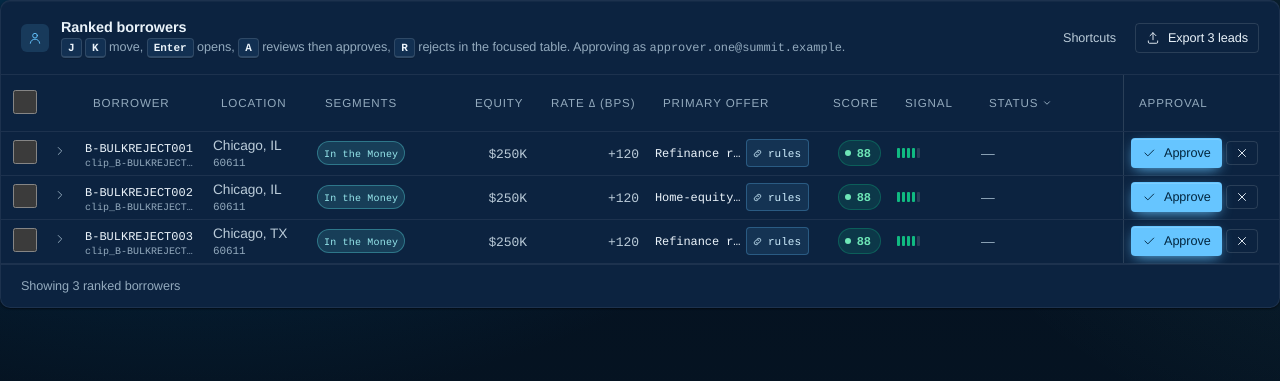
Scenario: LeadTable bulk Reject run › sits before Approve with its count, Shift+R and no title
Step 1. Click the checkbox named "Select lead B-BULKREJECT001" → (25, 152), box left=13, top=140, right=37, bottom=164
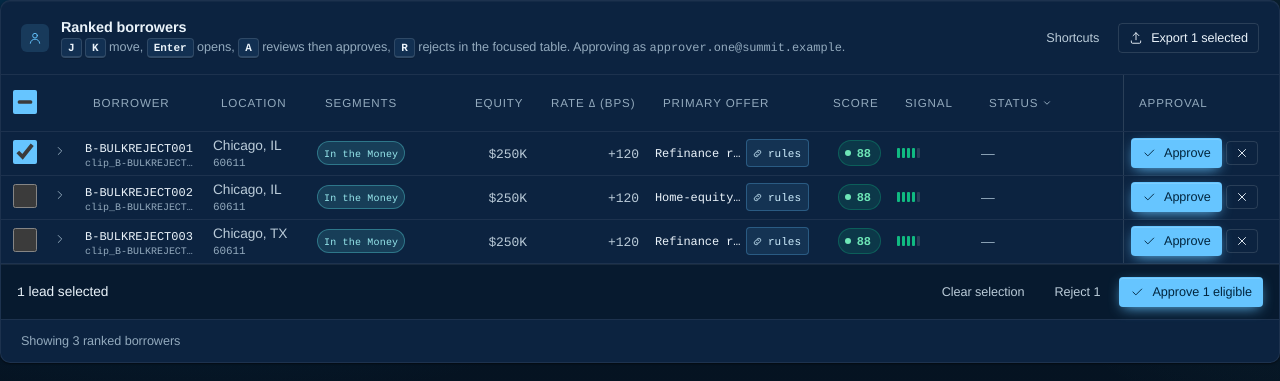
Step 2. Click the checkbox named "Select lead B-BULKREJECT002" → (25, 196), box left=13, top=184, right=37, bottom=208
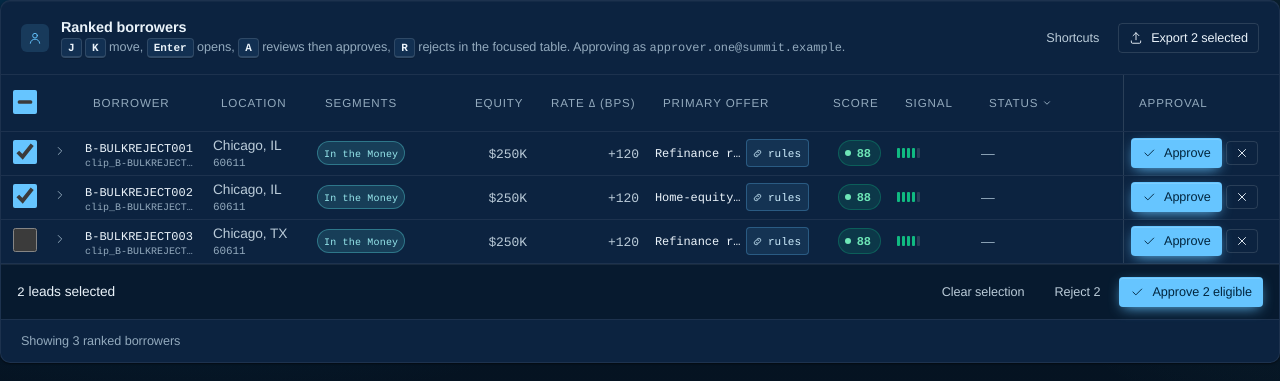
Step 3. Click the checkbox named "Select lead B-BULKREJECT003" → (25, 240), box left=13, top=228, right=37, bottom=252
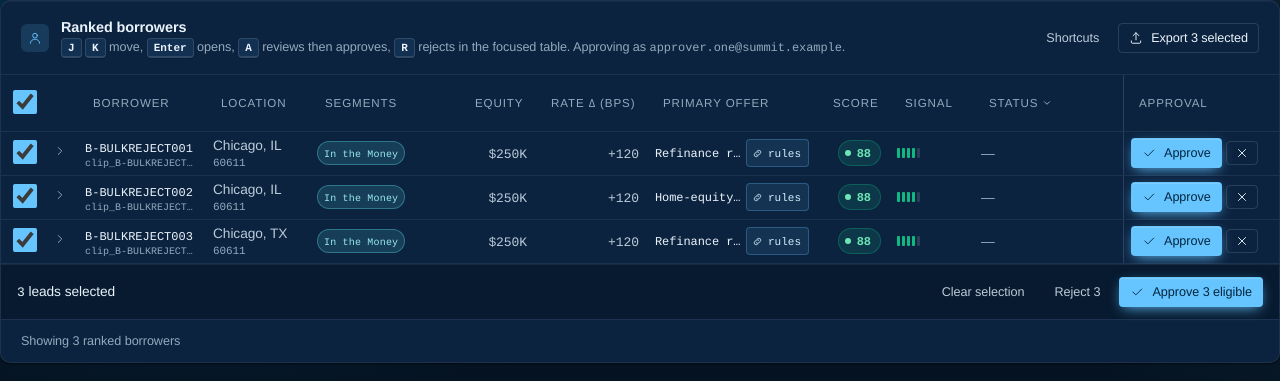
Now the button "Reject 3" is shown, box left=1044, top=277, right=1112, bottom=307
